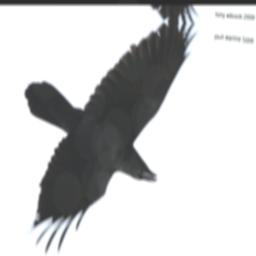Crow: (16, 9, 200, 256)
